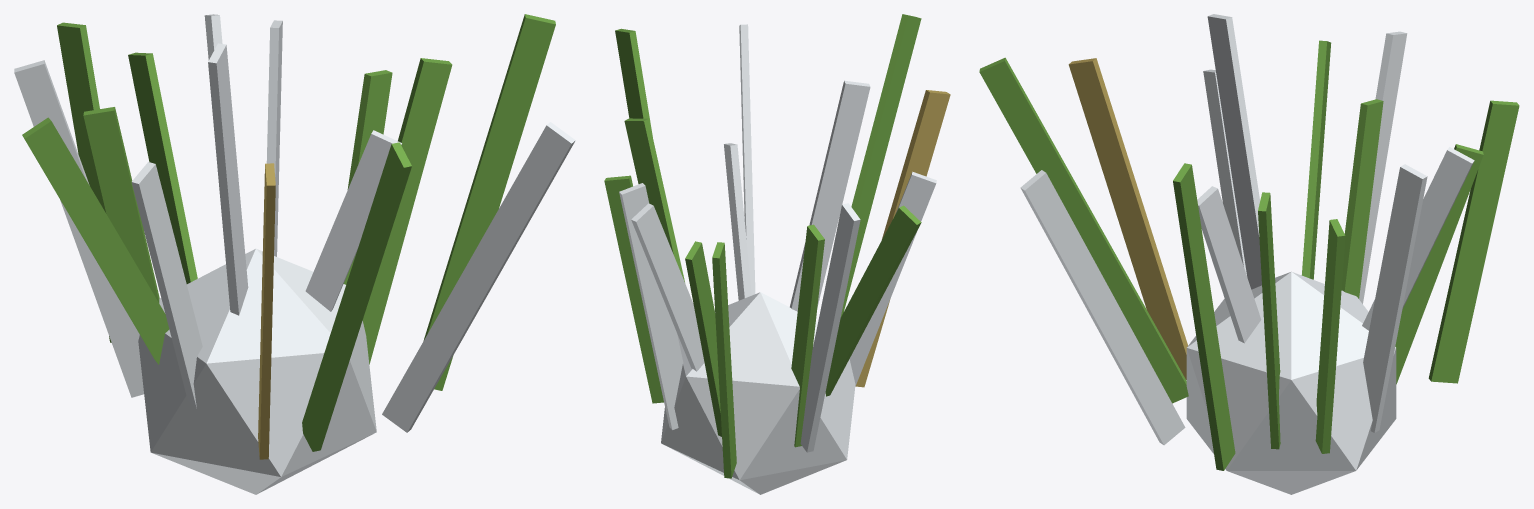
File: buisson_toundra_3.glb
3 views of the same model, side by side, from view 1: azimuth 30°, elevation 25°; view 2: azimuth 150°, elevation 25°; view 3: azimuth 270°, elevation 25° (orthographic). The views are drawn at different scales.
Visible parts, largest first — view 1: herbe_neige.002, herbe_feuille_claire.004, herbe_herbe_seche.004; view 2: herbe_neige.002, herbe_feuille_claire.004, herbe_herbe_seche.004; view 3: herbe_neige.002, herbe_feuille_claire.004, herbe_herbe_seche.004.
Boxes of the visible parts, x1,y1,x2,y2 form: herbe_neige.002: [14, 14, 575, 494]; herbe_feuille_claire.004: [22, 14, 555, 451]; herbe_herbe_seche.004: [258, 163, 275, 459]; herbe_neige.002: [619, 24, 936, 494]; herbe_feuille_claire.004: [604, 14, 921, 478]; herbe_herbe_seche.004: [855, 90, 950, 387]; herbe_neige.002: [1020, 14, 1474, 494]; herbe_feuille_claire.004: [979, 40, 1519, 470]; herbe_herbe_seche.004: [1068, 58, 1187, 379].
Size of the model in its own units: 0.5749 by 0.5999 by 0.6576.
